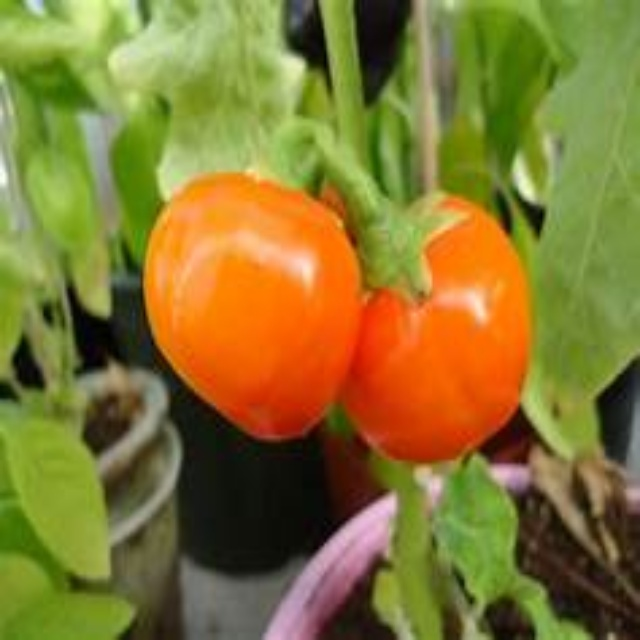tomato: (153, 179, 360, 439), (347, 198, 527, 466)
